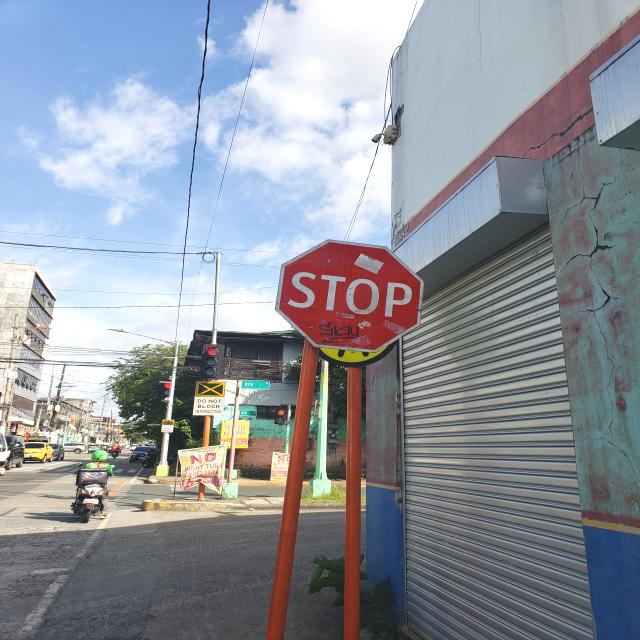stop-sign: (275, 238, 425, 354)
